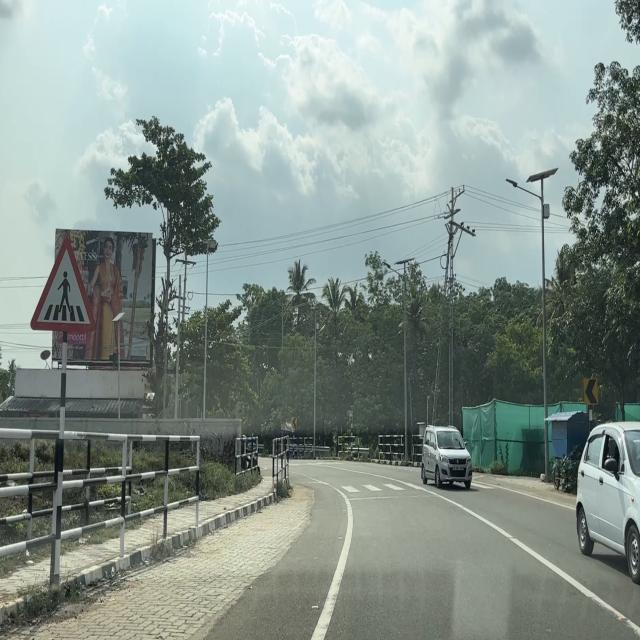PEDESTRIAN_CROSSING: (28, 228, 98, 338)
TURN_LEFT: (584, 377, 598, 405), (292, 417, 297, 427)
